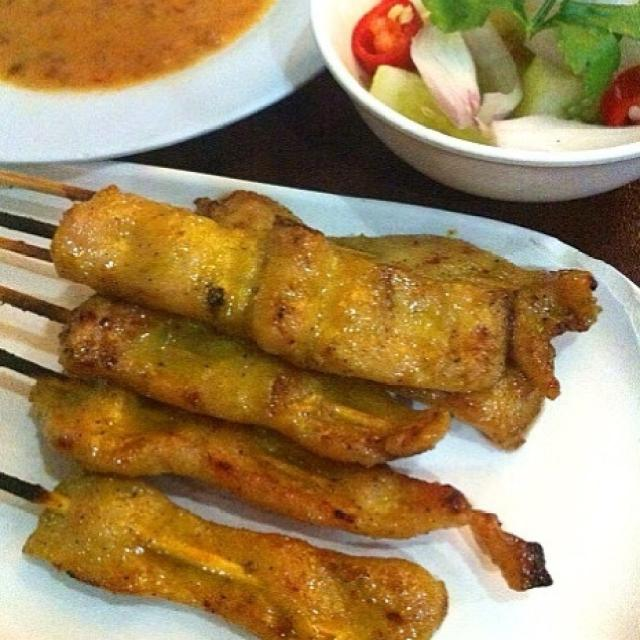牛肉菜式: (18, 95, 589, 626)
